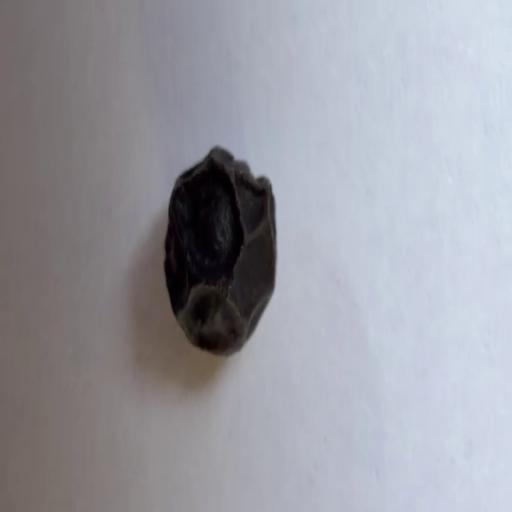Black_pepper: (154, 124, 298, 385)
